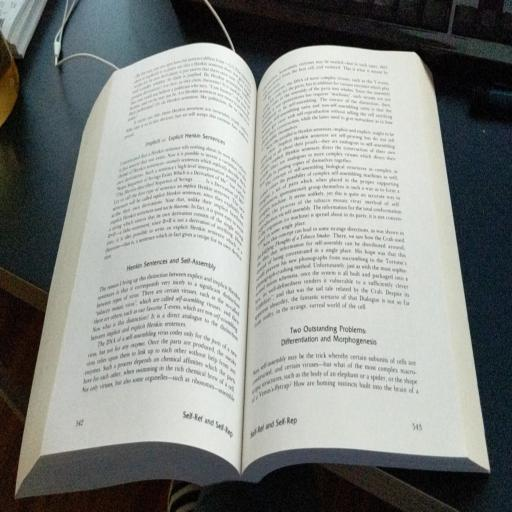paper: (14, 43, 492, 497)
